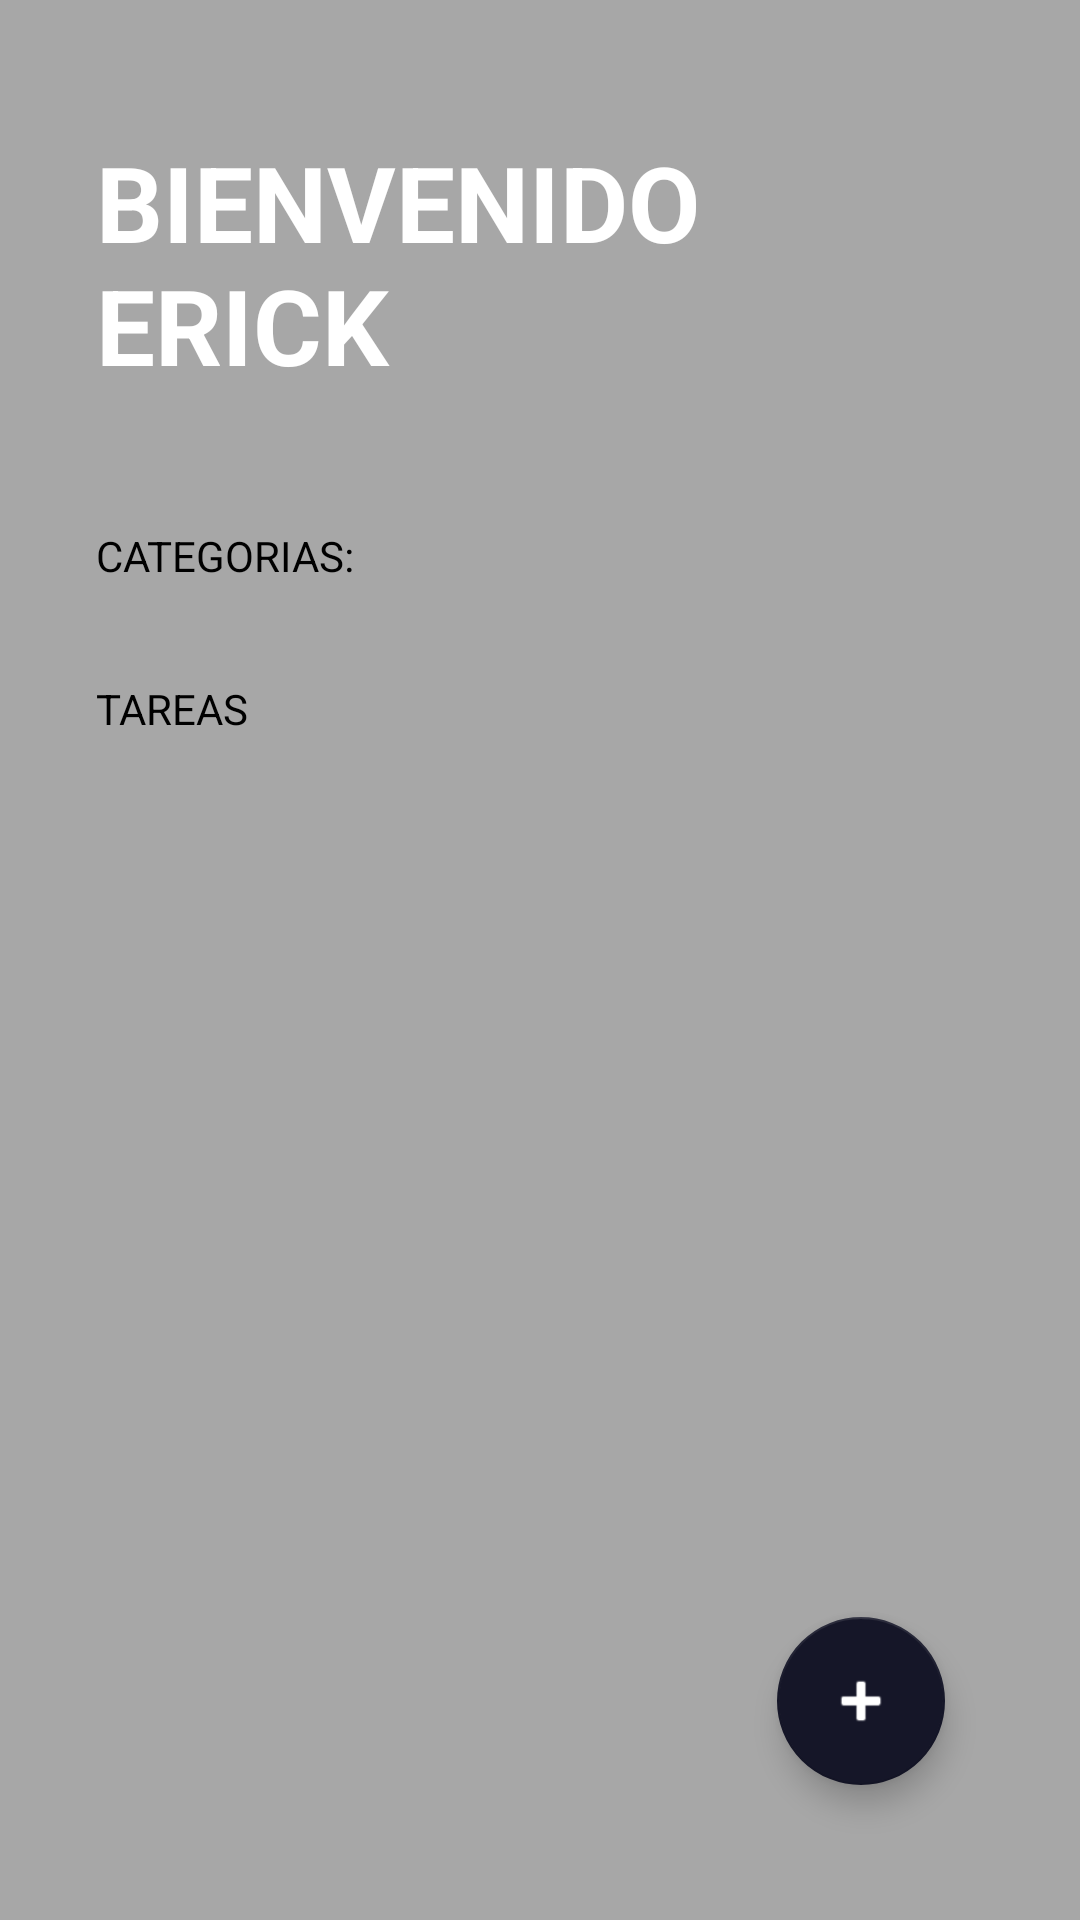

Icons on this 1080px×1920px Android screen, each with the point to tap as (x=x, y=y):
add: (x=861, y=1701)
